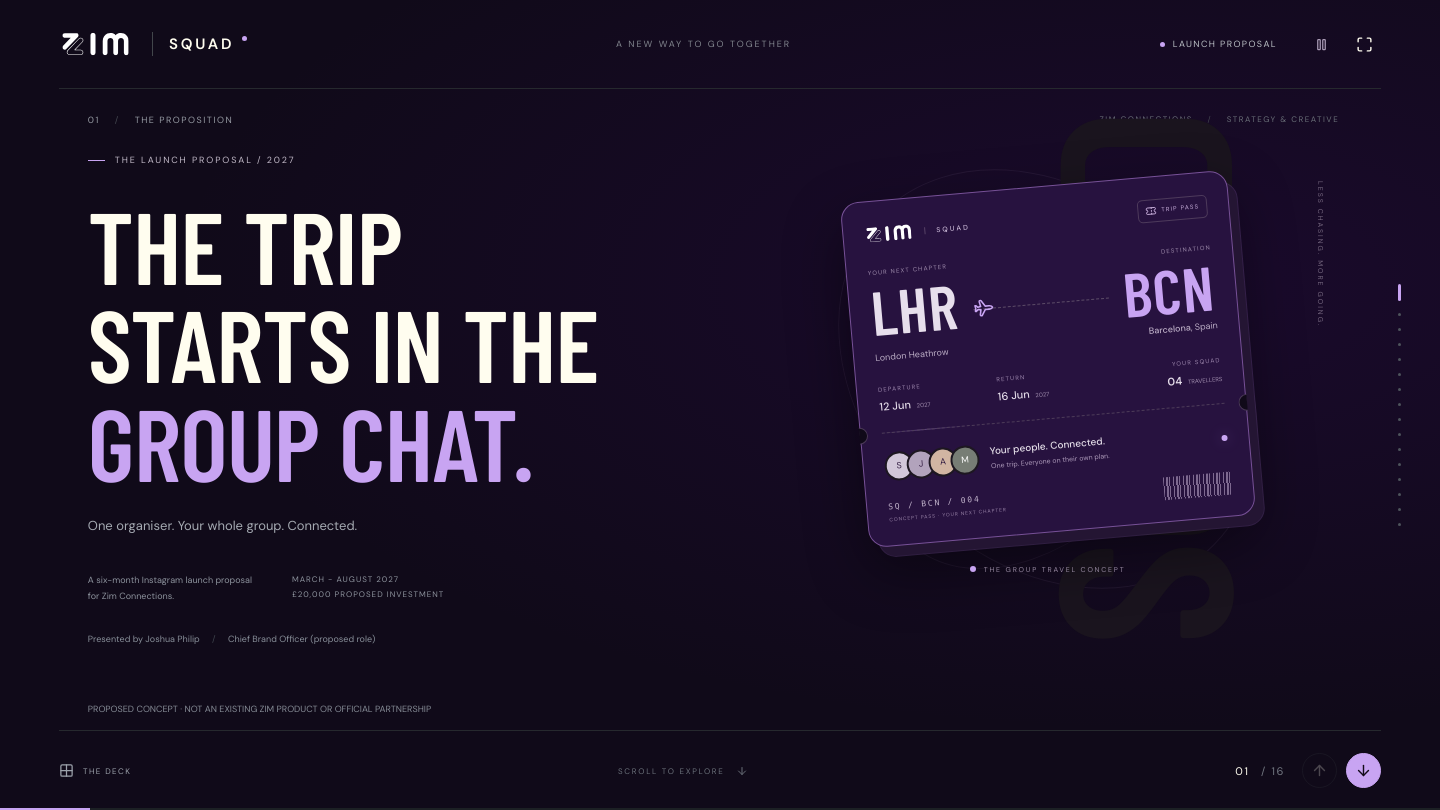
Scenario: presentation experience › pauses ambient animation independently of navigation and during the overview
This screenshot has width=1440, height=810.
Click the button named "Pause ambient motion" at (1322, 44), box 1306,28 -> 1337,60
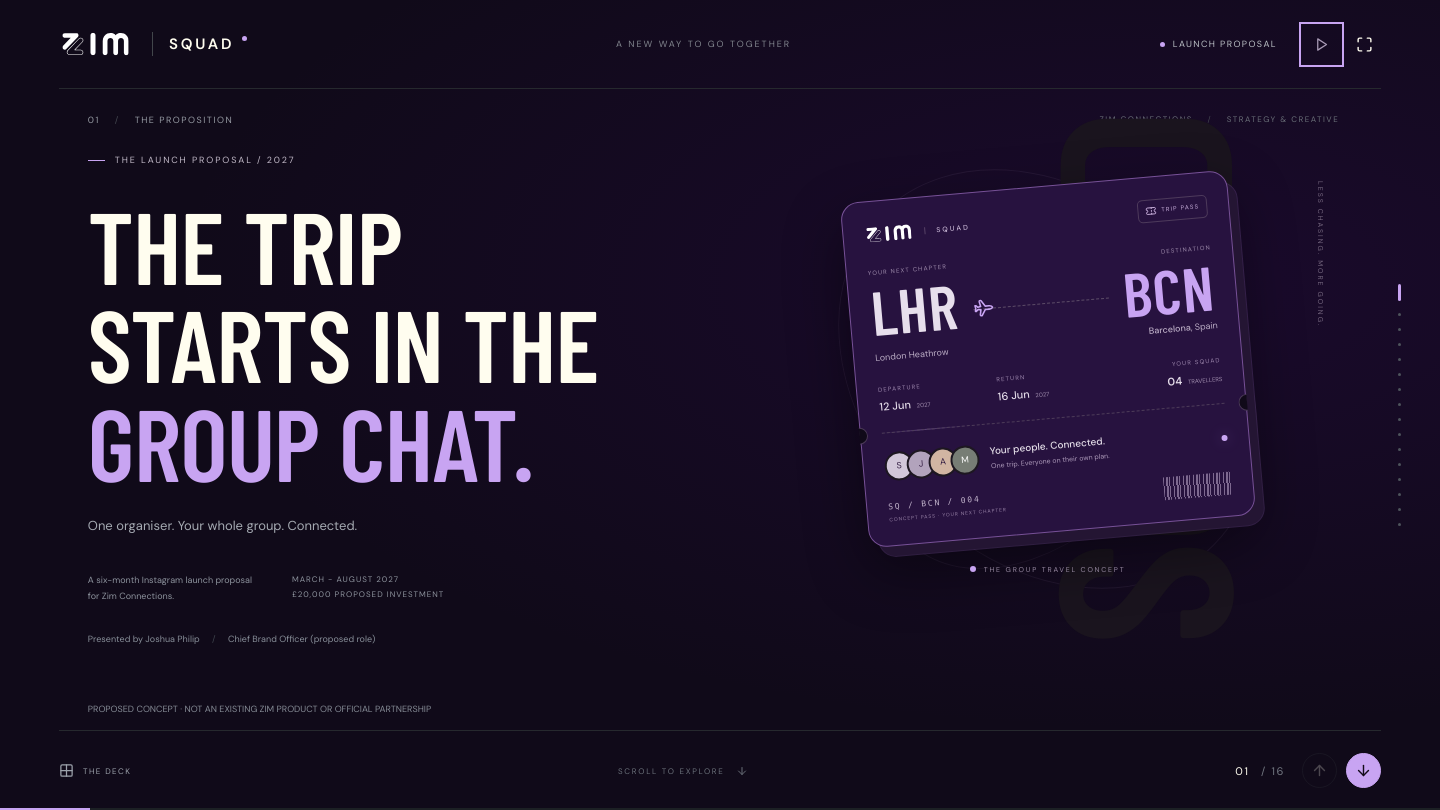
Expected: the element that starts with "SQUAD" has attribute data-idle-motion="paused"
Press ArrowDown
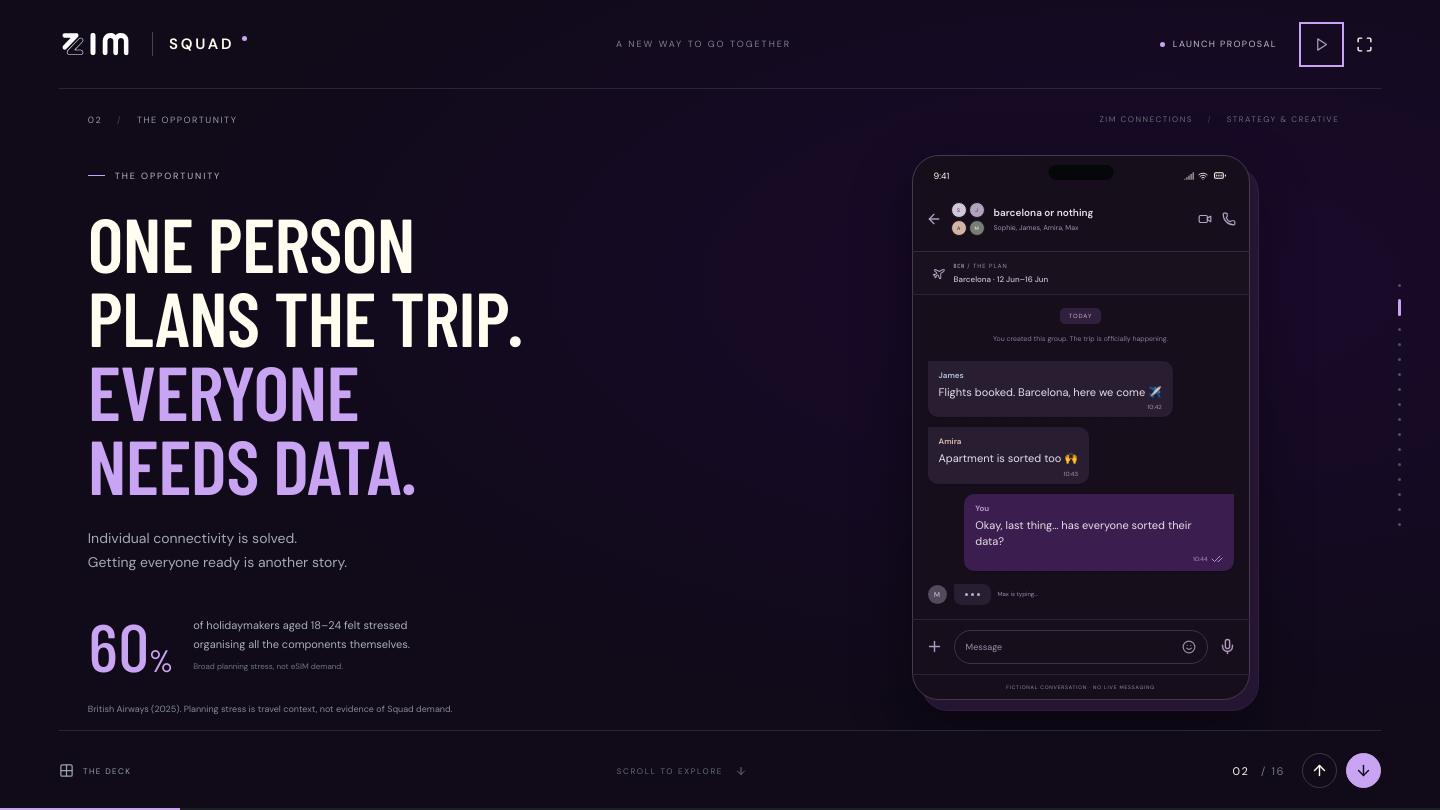
Expected: the element named "Slide 2: The opportunity" is shown
Click the button named "Resume ambient motion" at (1322, 44), box 1306,28 -> 1337,60
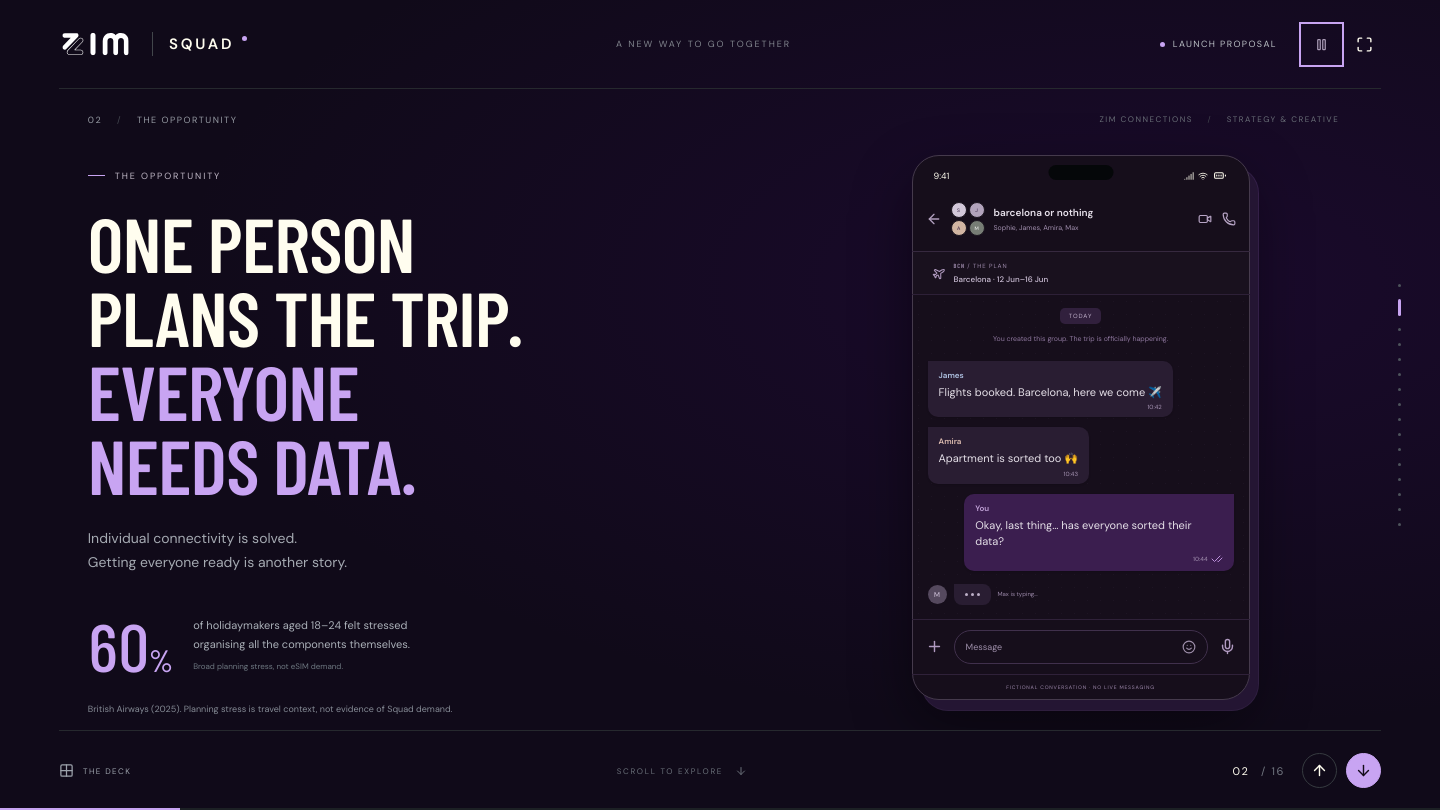
Expected: the element that starts with "SQUAD" has attribute data-idle-motion="playing"
Press g
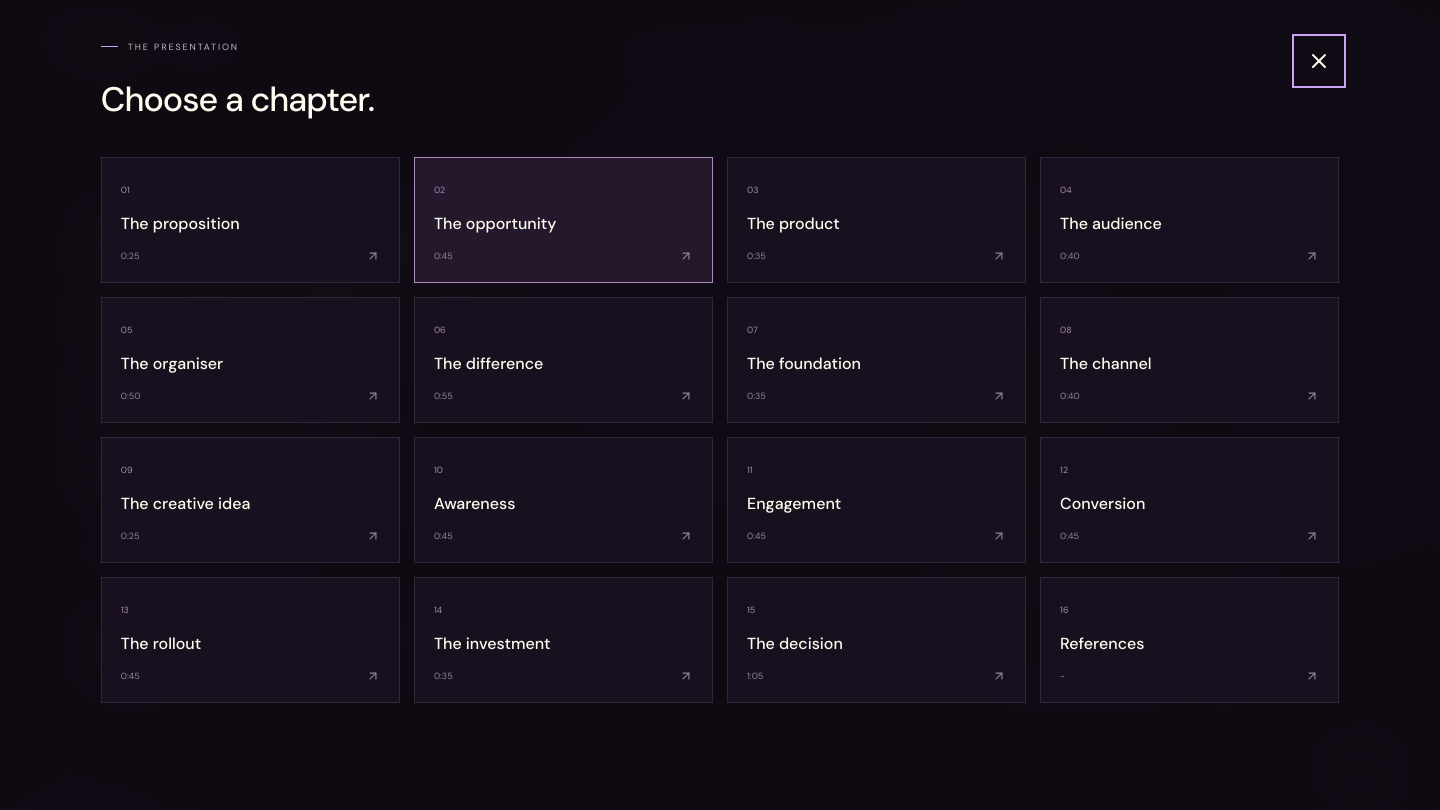
Expected: the dialog named "Slide overview" is shown
Press Escape
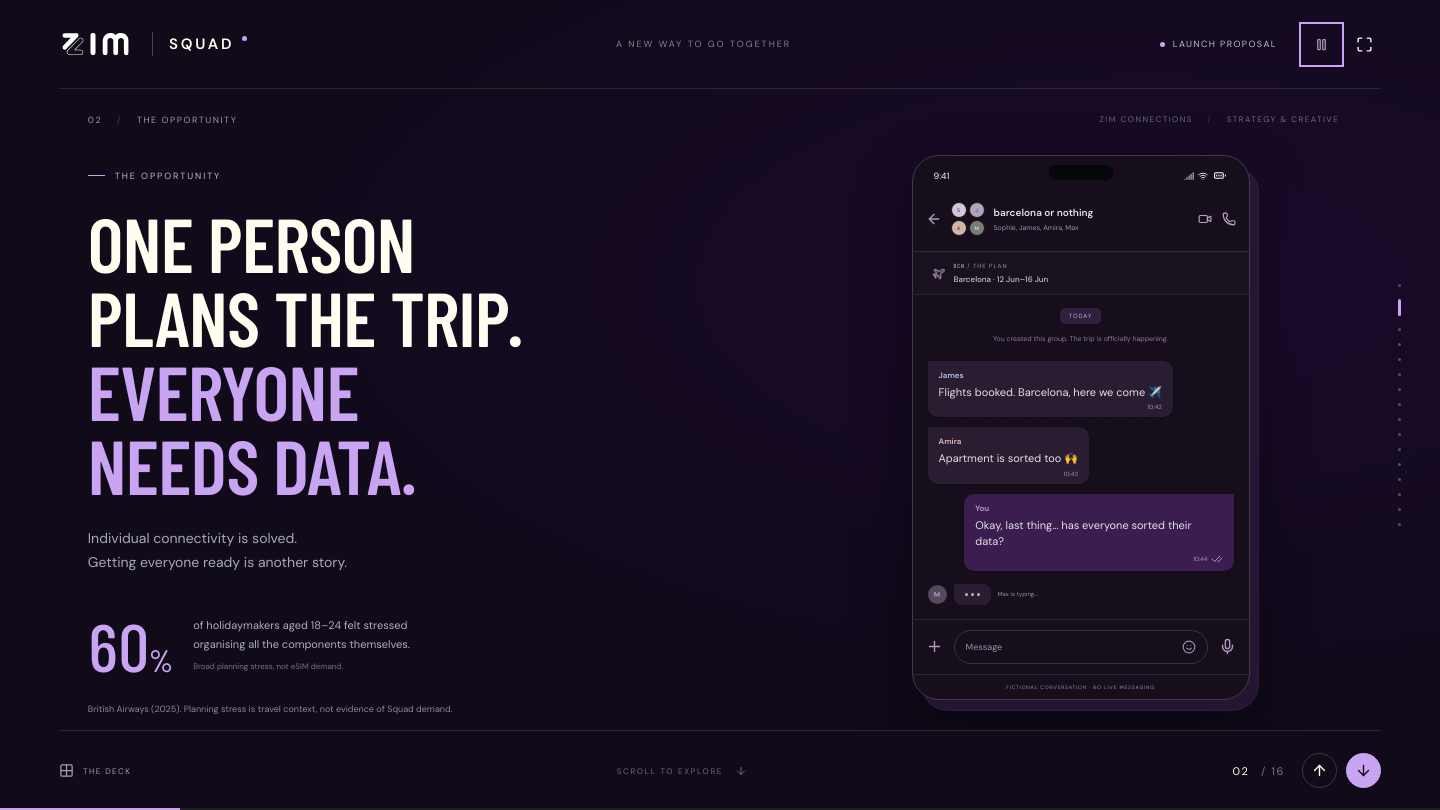
Expected: the dialog is gone
